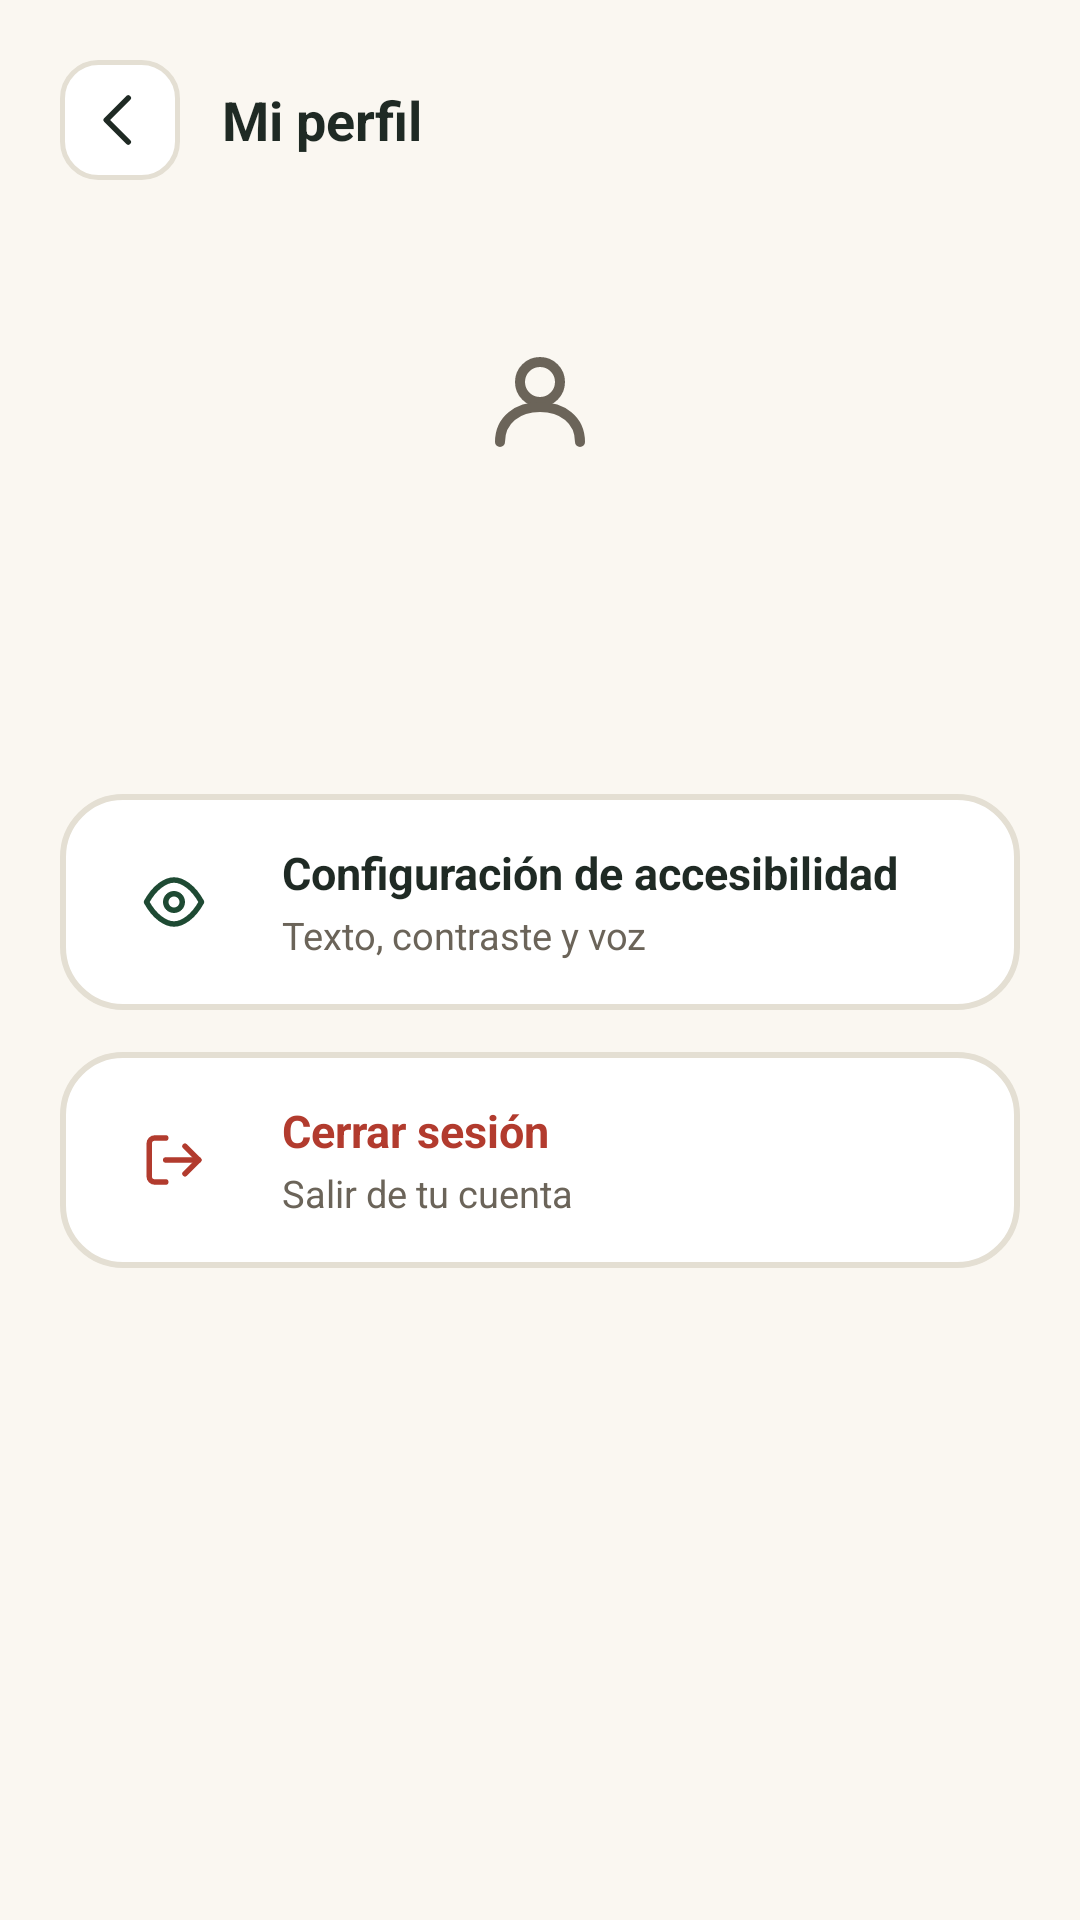

Screen size 1080*1920. Icon name, then its box in pixels as (x1, y1, x2, y2):
eye: (143, 877, 205, 927)
profile: (495, 357, 585, 447)
← Atrás: (60, 60, 180, 180)
